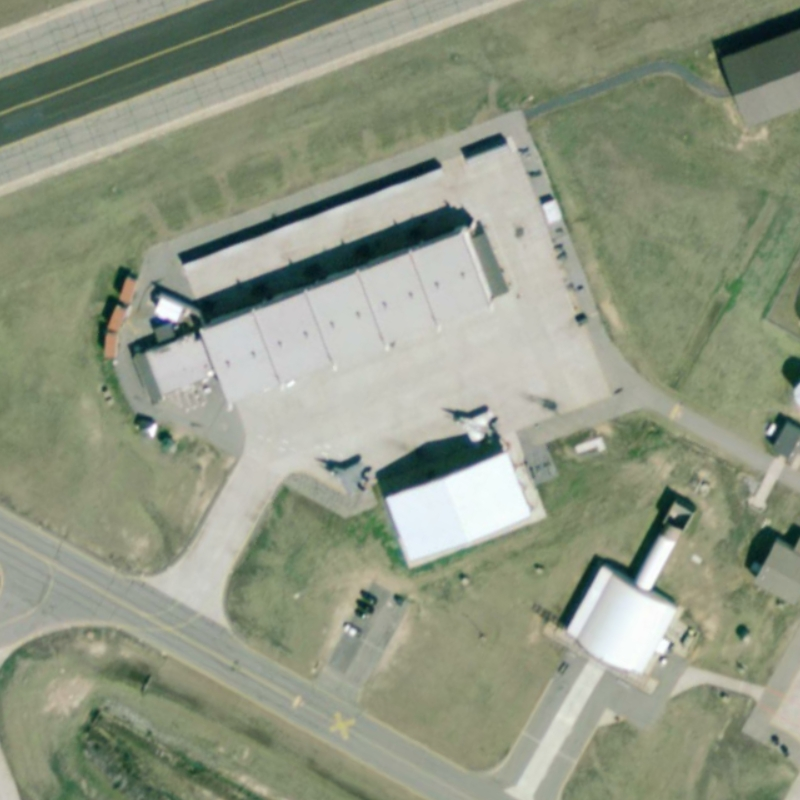A13: (310, 455, 379, 498)
A15: (441, 407, 504, 449)
